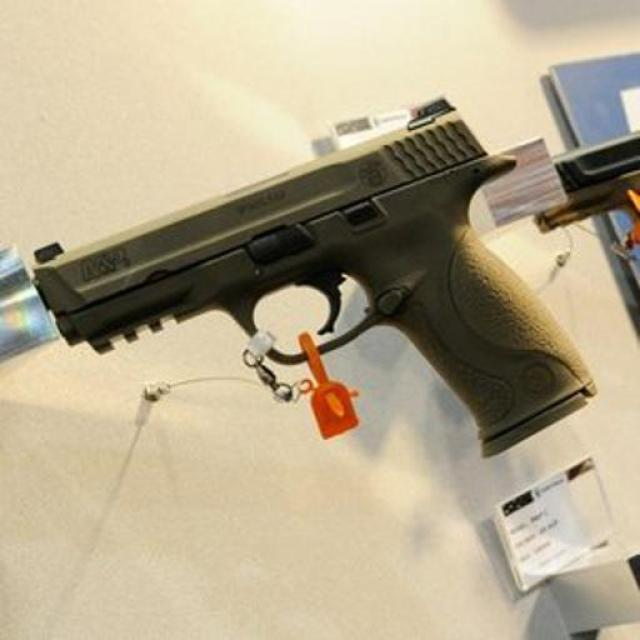pistol: (40, 93, 601, 441)
